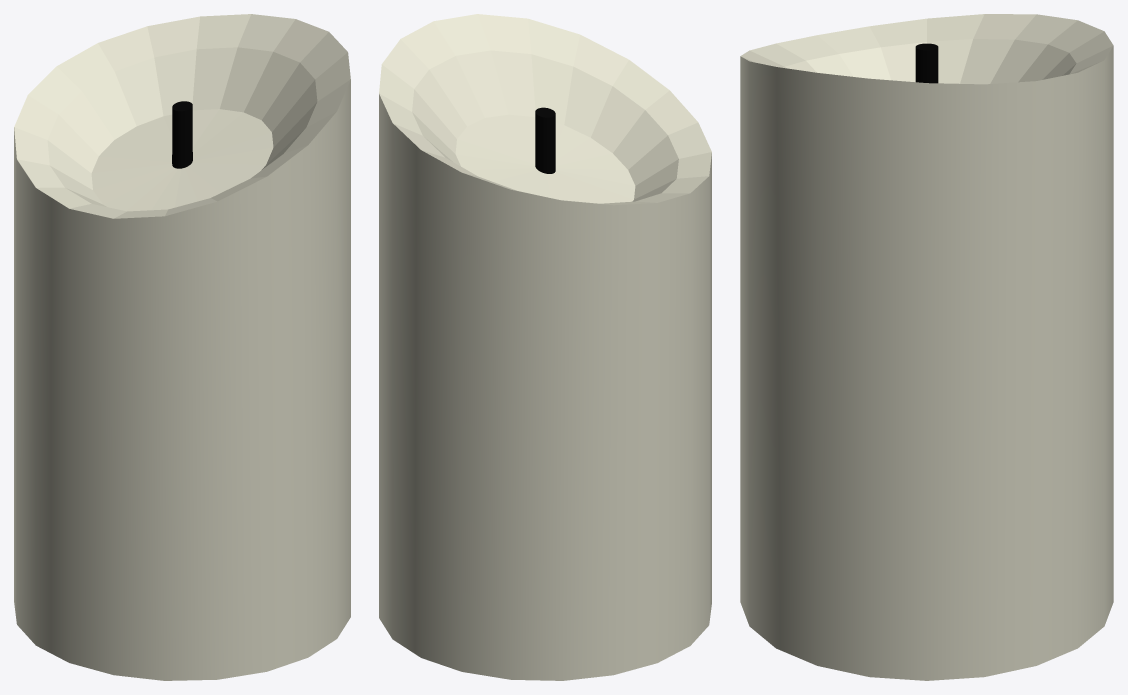
Rendered from Candle_Mid.fbx.
The picture shows the model from 3 angles, left to right: view 1: azimuth 30°, elevation 25°; view 2: azimuth 150°, elevation 25°; view 3: azimuth 270°, elevation 25°; orthographic projection. The views are drawn at different scales.
Visible parts, largest first — view 1: Candle_Mid; view 2: Candle_Mid; view 3: Candle_Mid.
Boxes of the visible parts, x1,y1,x2,y2 form: Candle_Mid: (14,14,350,680); Candle_Mid: (379,14,711,680); Candle_Mid: (740,14,1113,680).
Size of the model in its own units: 8.03 by 14.2 by 8.03.
